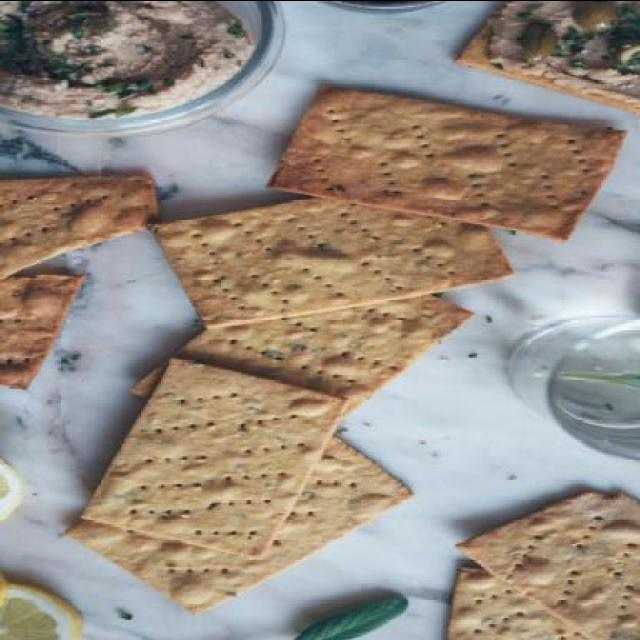Cracker packaged: (143, 166, 525, 322), (255, 81, 627, 232), (87, 353, 338, 547)
